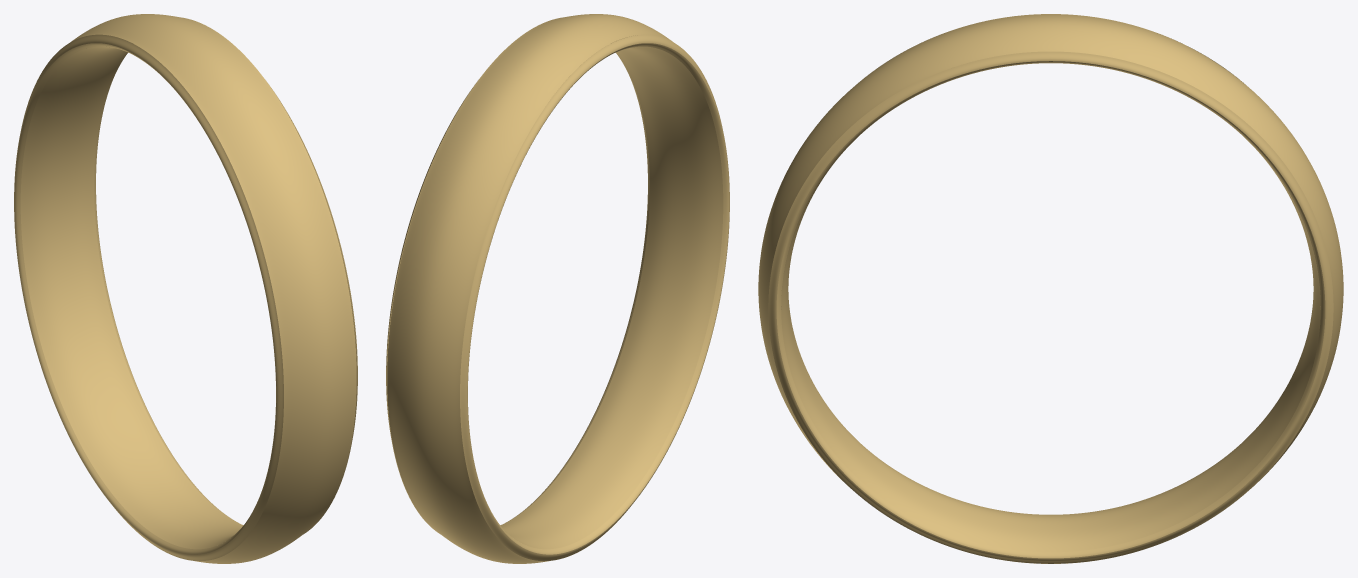
3 views of the same model, side by side, from view 1: azimuth 30°, elevation 25°; view 2: azimuth 150°, elevation 25°; view 3: azimuth 270°, elevation 25° (orthographic). The views are drawn at different scales.
Parts seen in each view (by area): view 1: P10-Outer, P10-Inner, P10-Sides; view 2: P10-Outer, P10-Inner, P10-Sides; view 3: P10-Outer, P10-Inner, P10-Sides.
Boxes of the visible parts, box(x1,y1,x2,y2) form: P10-Outer: box(71, 14, 356, 563); P10-Inner: box(20, 46, 243, 549); P10-Sides: box(14, 34, 357, 561); P10-Outer: box(387, 14, 672, 563); P10-Inner: box(500, 46, 723, 549); P10-Sides: box(386, 34, 729, 561); P10-Outer: box(758, 14, 1343, 563); P10-Inner: box(781, 51, 1320, 552); P10-Sides: box(768, 38, 1333, 563).
Size of the model in its own units: 0.3993 by 2.38 by 2.37.
